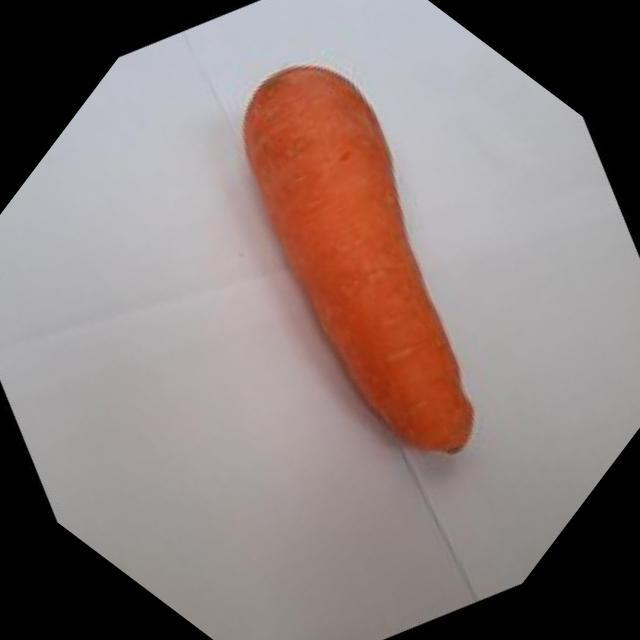carrot: (61, 0, 640, 553)
